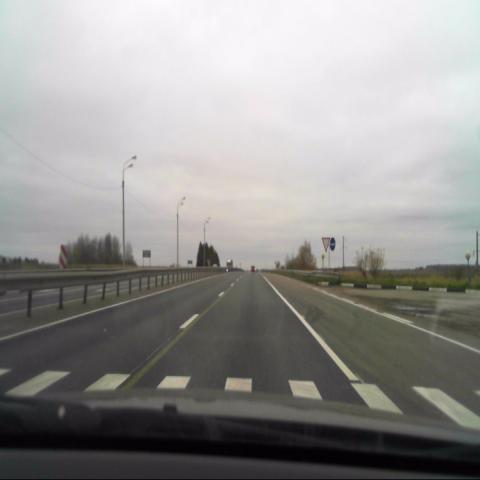2_4: (322, 237, 330, 252)
4_1_2_1: (329, 238, 336, 252)
